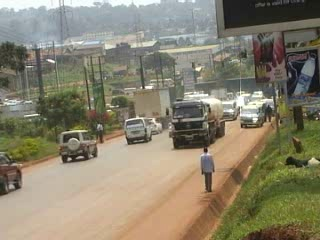Car: (55, 124, 99, 166), (0, 149, 27, 198), (145, 114, 163, 137), (168, 119, 173, 141)
